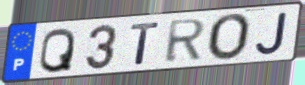3: (82, 23, 118, 71)
J: (253, 10, 290, 57)
O: (207, 12, 254, 63)
Q: (37, 26, 77, 75)
R: (163, 17, 209, 65)
T: (129, 21, 162, 67)
